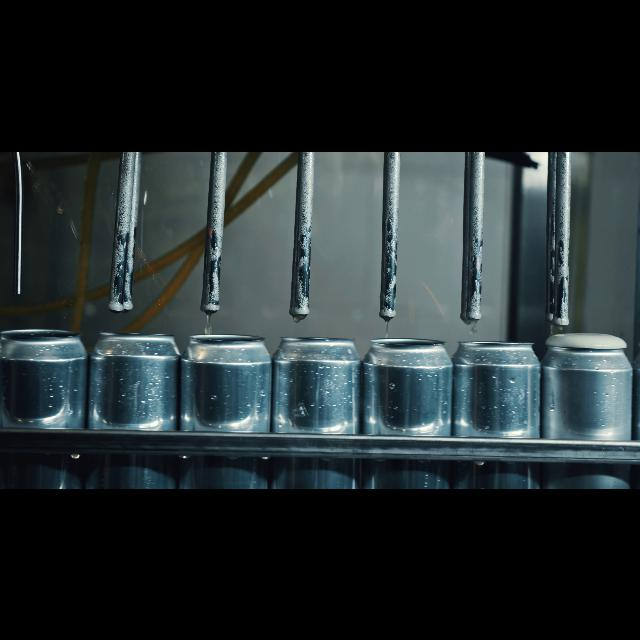empty: (364, 322, 450, 488), (94, 320, 178, 488), (6, 316, 86, 488), (187, 324, 269, 488), (461, 326, 542, 488), (278, 322, 356, 488)
full: (547, 316, 635, 488)
